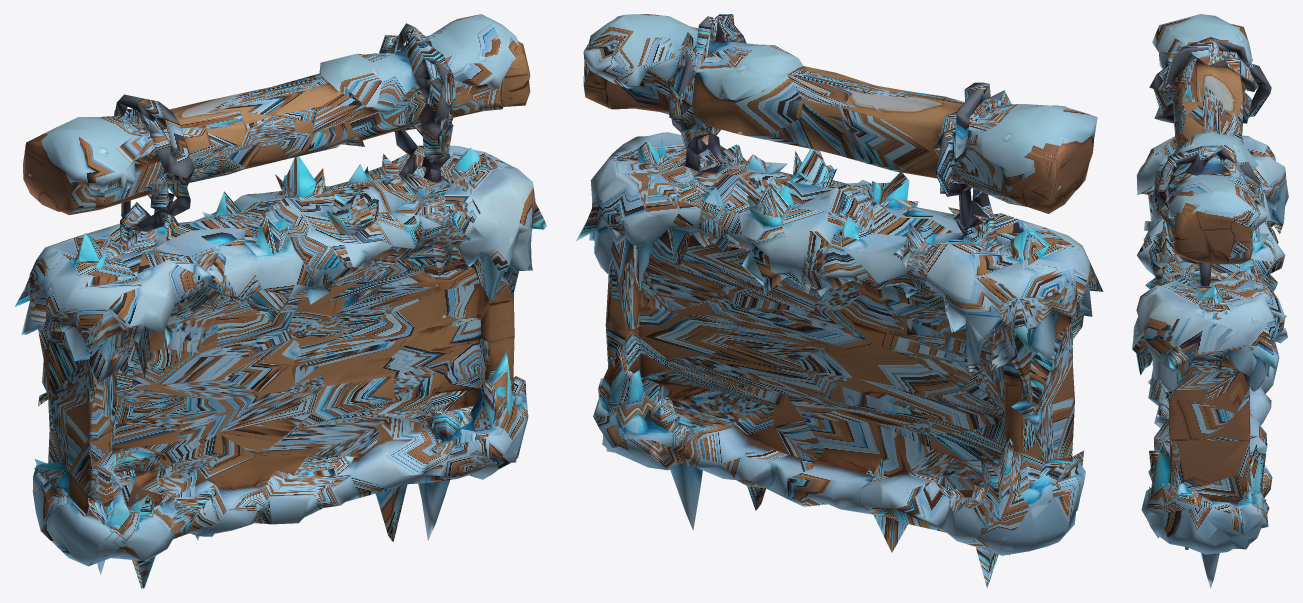
The model's file is ice_mine_sign_02.glb.
3 renders of one model, left to right at view 1: azimuth 30°, elevation 25°; view 2: azimuth 150°, elevation 25°; view 3: azimuth 270°, elevation 25°, orthographic. The views are drawn at different scales.
Visible parts, largest first — view 1: tripo_node_791db6d8-f4b0-4e2c-863b-9933ea2d90d3; view 2: tripo_node_791db6d8-f4b0-4e2c-863b-9933ea2d90d3; view 3: tripo_node_791db6d8-f4b0-4e2c-863b-9933ea2d90d3.
Part boxes in pixels (x1=…): tripo_node_791db6d8-f4b0-4e2c-863b-9933ea2d90d3: x1=14, y1=14, x2=546, y2=588; tripo_node_791db6d8-f4b0-4e2c-863b-9933ea2d90d3: x1=575, y1=14, x2=1103, y2=588; tripo_node_791db6d8-f4b0-4e2c-863b-9933ea2d90d3: x1=1132, y1=14, x2=1288, y2=588.
Bounding box in the file's own units: 0.9749 × 0.9829 × 0.3187.
Materials: 1 (1 with a texture image).
